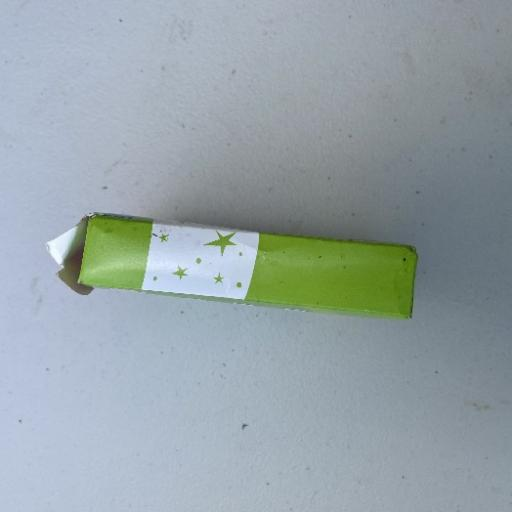Cardboard: (46, 209, 419, 322)
